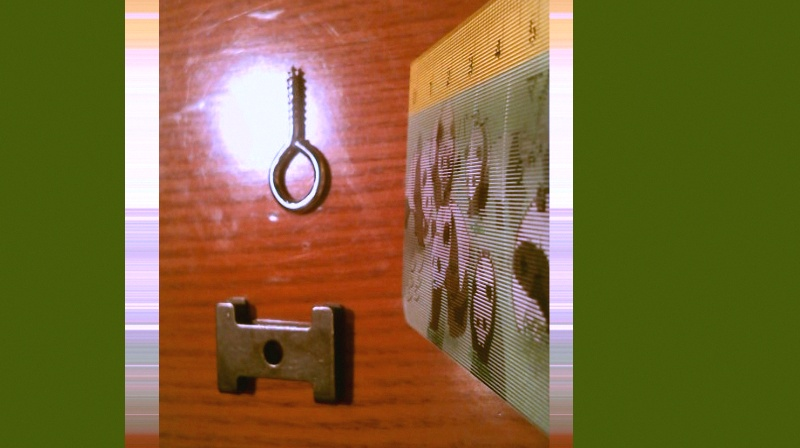O001: (266, 60, 329, 218)
O002: (211, 296, 355, 409)
